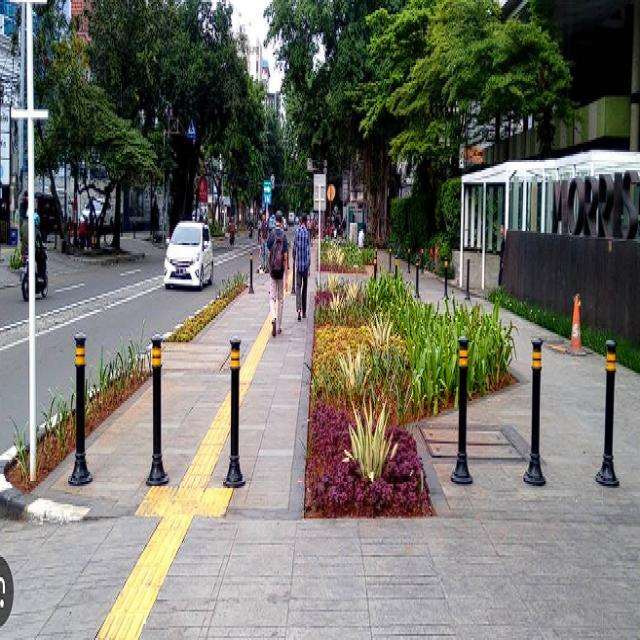obstacle: (71, 322, 89, 478), (148, 330, 164, 483), (228, 330, 243, 489), (455, 333, 470, 486), (530, 333, 544, 483), (603, 334, 617, 478)
